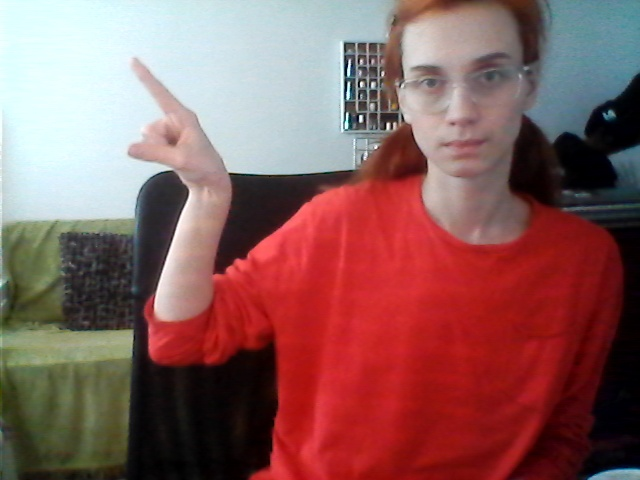on: (94, 50, 263, 379)
